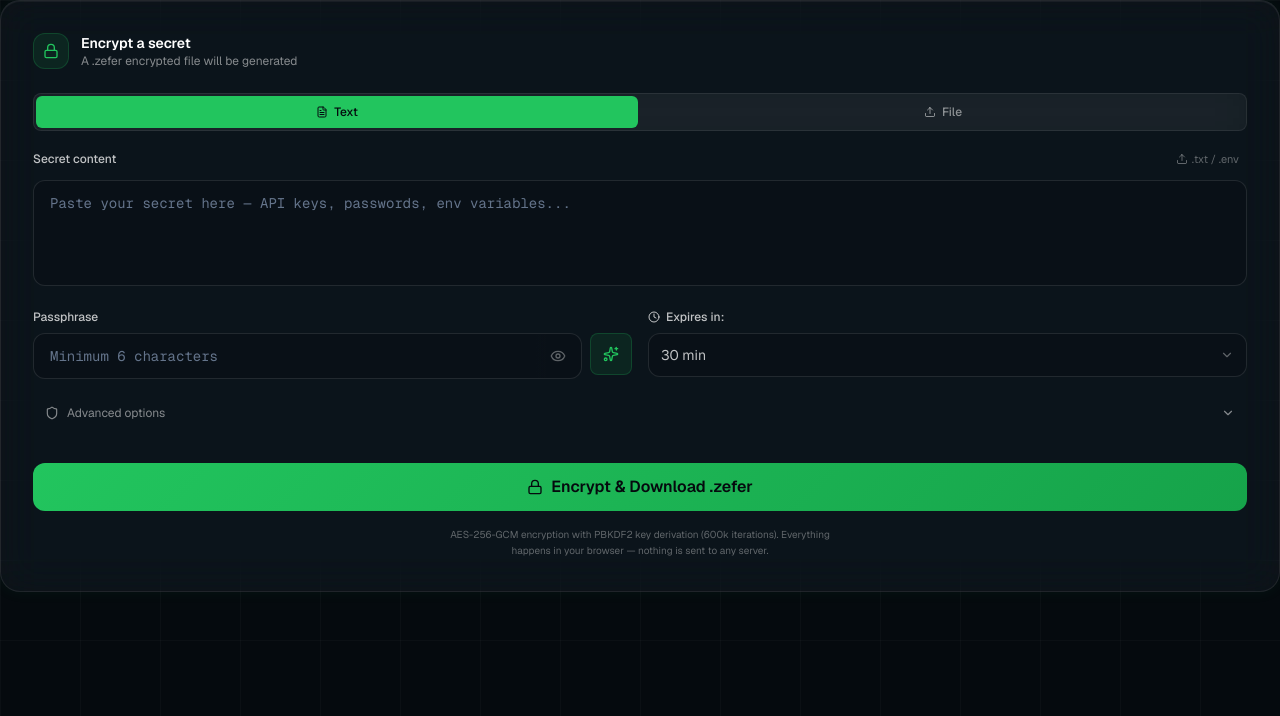
EncryptForm › refuses file mode with no file attached
Step 1. Click the button "File" → click(943, 112), box [642,96,1244,128]
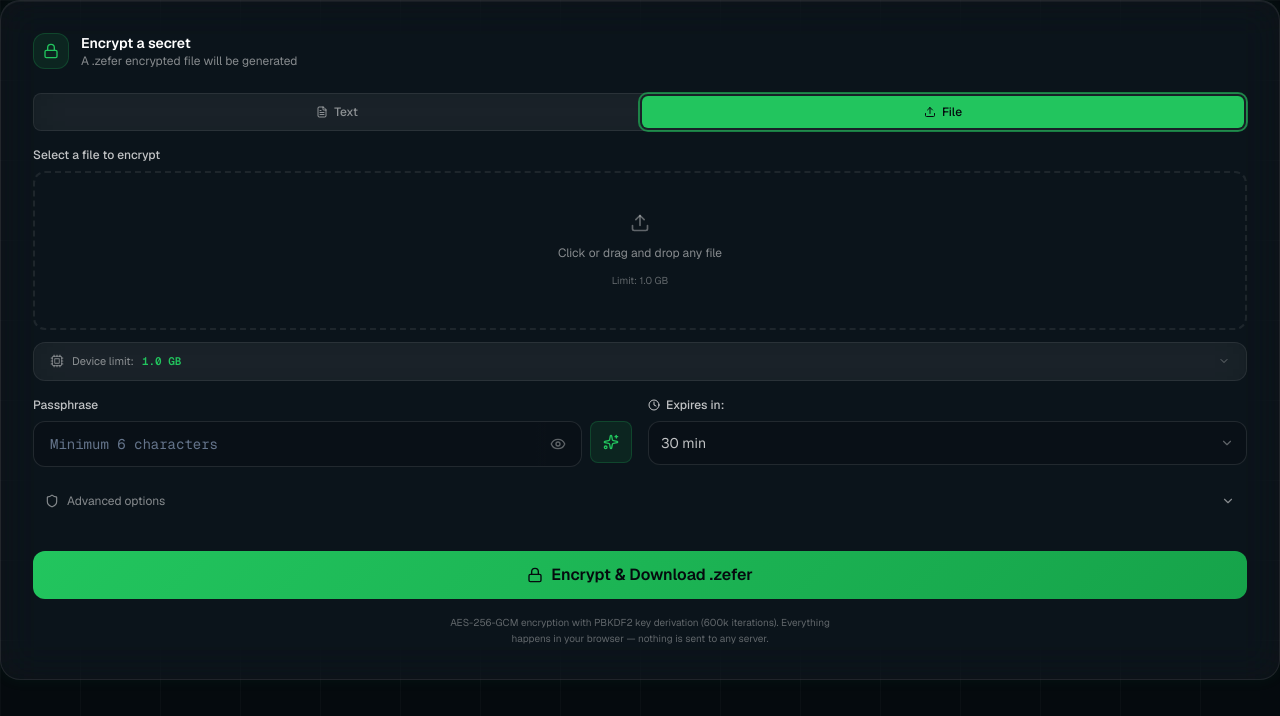
Step 2. Type "longenough" into the password field labelled "Passphrase" → (308, 444), box [33,420,582,466]
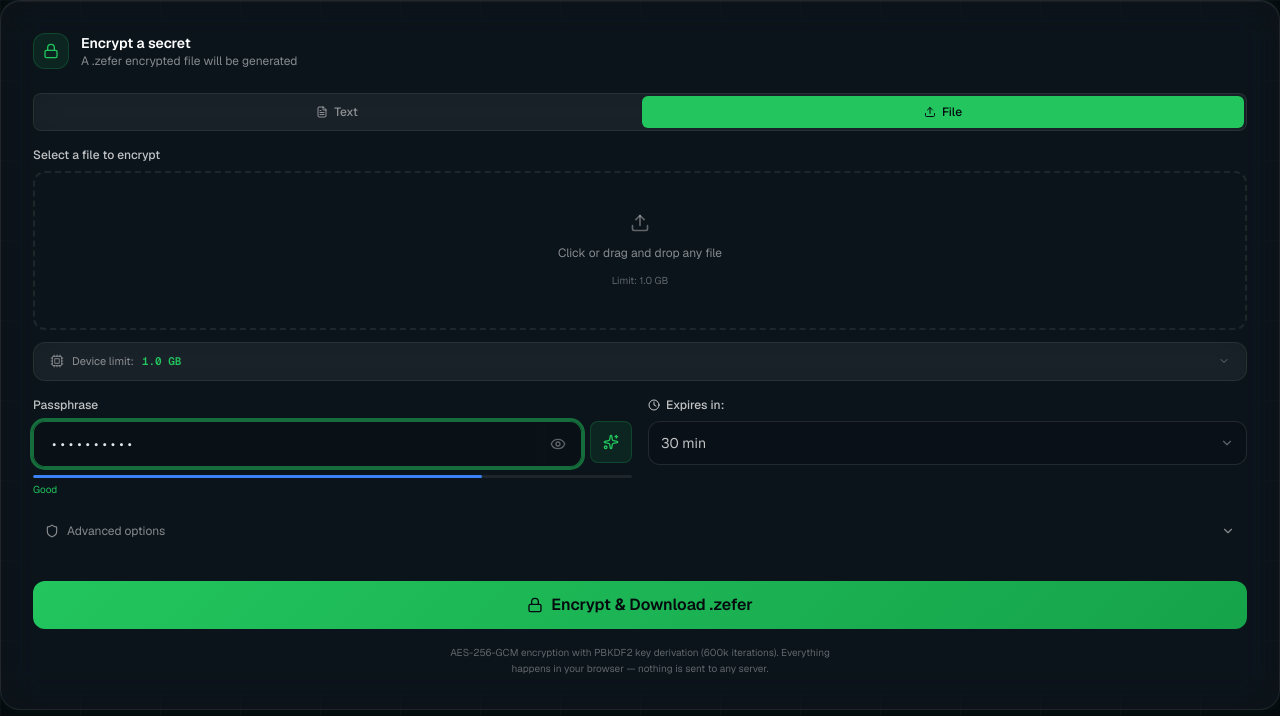
Step 3. Click the button "Encrypt & Download .zefer" → click(640, 604), box [33,580,1247,628]
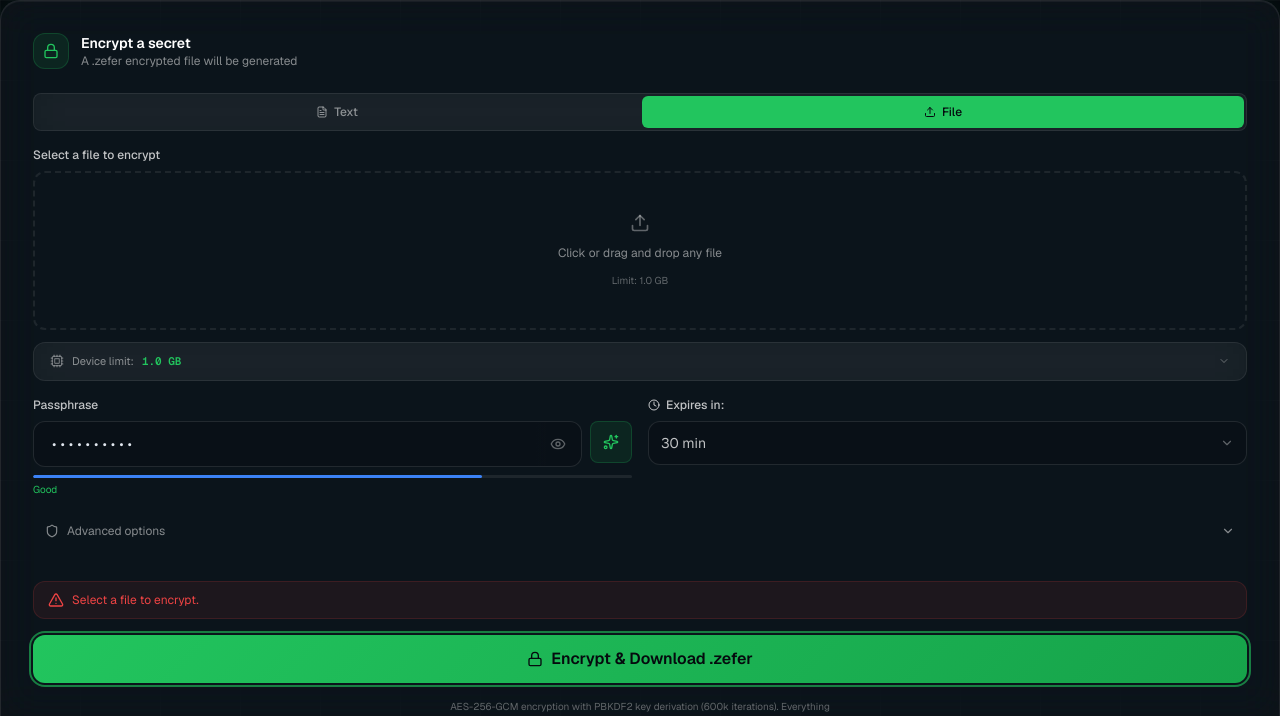
Check: the text "Select a file to encrypt." is shown, box [72,592,199,608]
